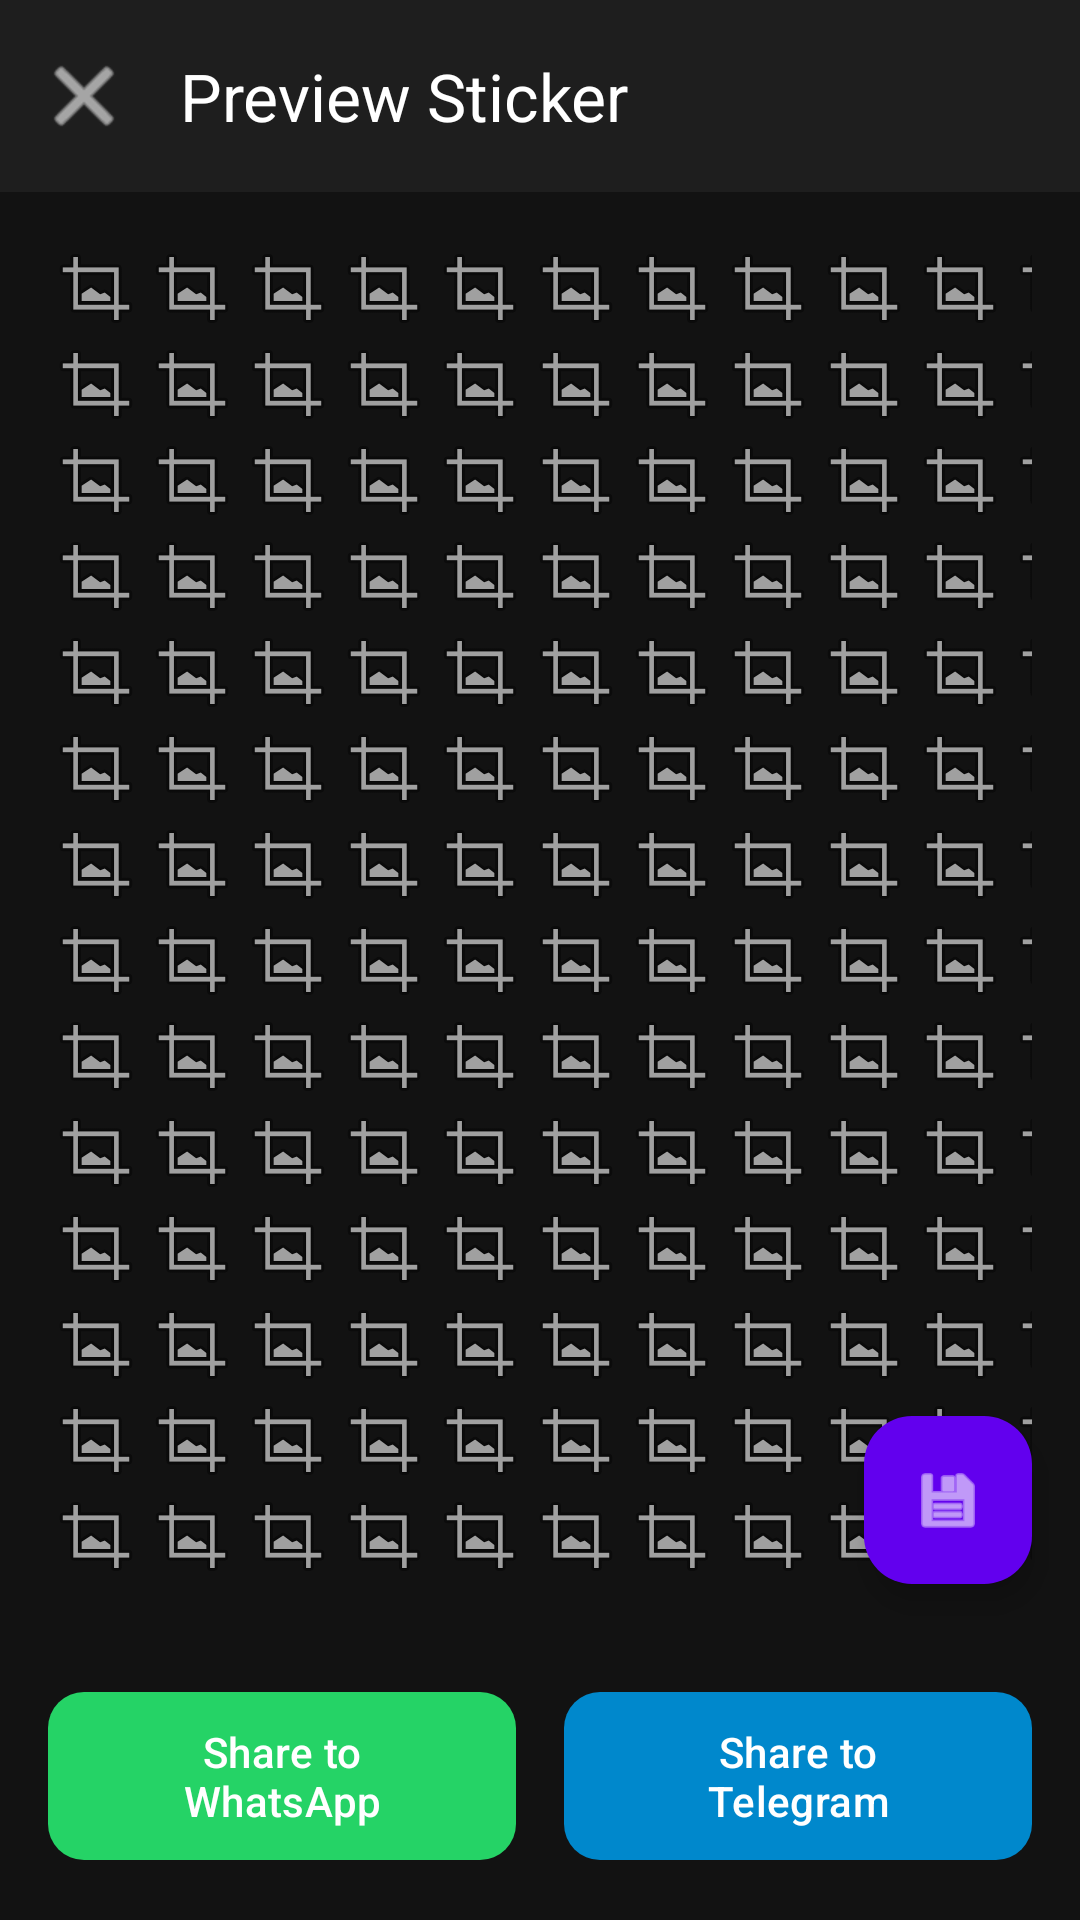

Locate icon controls on the screen. Image size 1080w x 1920h, boxes as (x1, y1, x2, y2).
save: (864, 1416, 1032, 1584)
